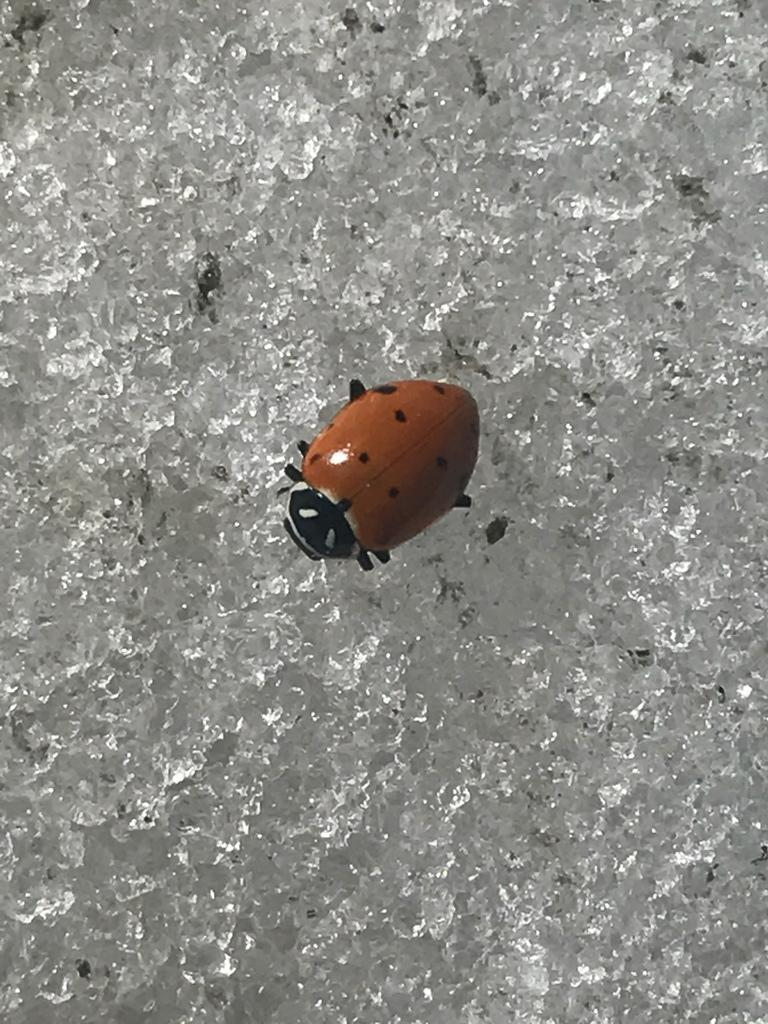ladybug: (276, 376, 489, 576)
